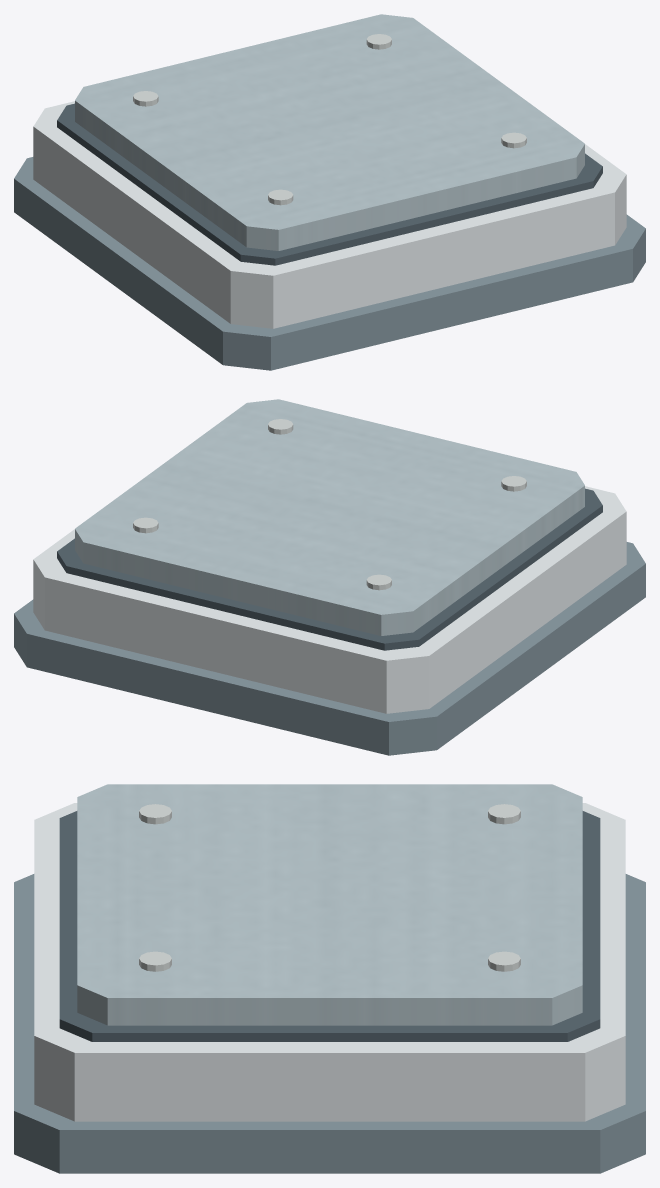
The model's file is m02-metal-corner-sw.glb.
The picture shows the model from 3 angles, top to bottom: view 1: azimuth 30°, elevation 25°; view 2: azimuth 150°, elevation 25°; view 3: azimuth 270°, elevation 25°; orthographic projection. The views are drawn at different scales.
Parts seen in each view (by area): view 1: corner-sw/003, corner-sw/001, corner-sw/000, corner-sw/002; view 2: corner-sw/003, corner-sw/001, corner-sw/000, corner-sw/002; view 3: corner-sw/003, corner-sw/001, corner-sw/000, corner-sw/002, corner-sw/004, corner-sw/006, corner-sw/005, corner-sw/007.
Part boxes in pixels (x1,y1,x2,y2): corner-sw/003: (75, 14, 584, 250); corner-sw/001: (33, 101, 626, 328); corner-sw/000: (14, 157, 645, 370); corner-sw/002: (57, 103, 602, 265); corner-sw/003: (75, 399, 584, 635); corner-sw/001: (33, 486, 626, 713); corner-sw/000: (14, 542, 645, 755); corner-sw/002: (57, 488, 602, 650); corner-sw/003: (77, 784, 582, 1025); corner-sw/001: (34, 803, 625, 1121); corner-sw/000: (14, 874, 645, 1173); corner-sw/002: (59, 811, 600, 1041); corner-sw/004: (488, 804, 520, 824); corner-sw/006: (139, 804, 171, 824); corner-sw/005: (488, 951, 520, 971); corner-sw/007: (139, 951, 171, 971).
Size of the model in its own units: 0.25 by 0.0678 by 0.25.
5 materials, 1 textured.
